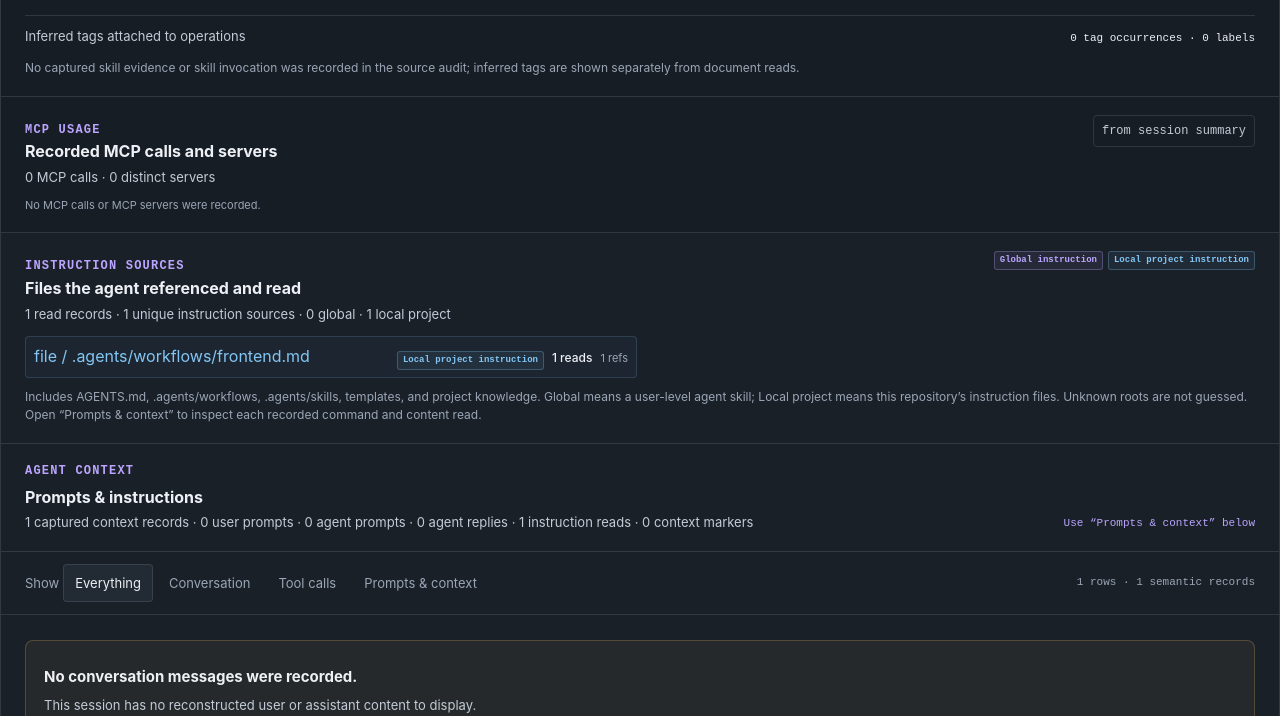
Test: TraceView API conversation › locates a referenced instruction source in its captured timeline event
This screenshot has width=1280, height=716.
(page scrolled)
Click the button named "Locate captured instruction source .agents/workflows/frontend.md in the trace": (53, 356) left=25, top=336, right=637, bottom=378
(page scrolled)
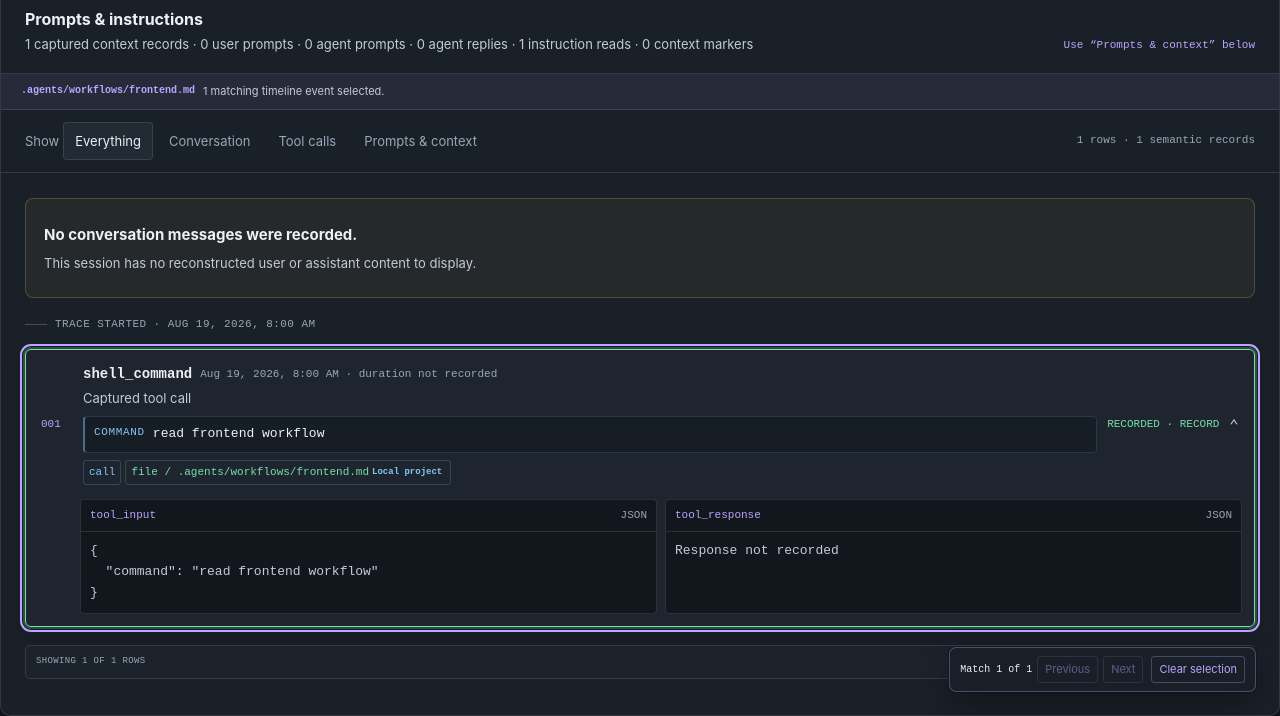
Now the text ".agents/workflows/frontend.md" is shown, box left=21, top=83, right=195, bottom=99
Now the text "1 matching timeline event selected." is shown, box left=203, top=82, right=384, bottom=100
